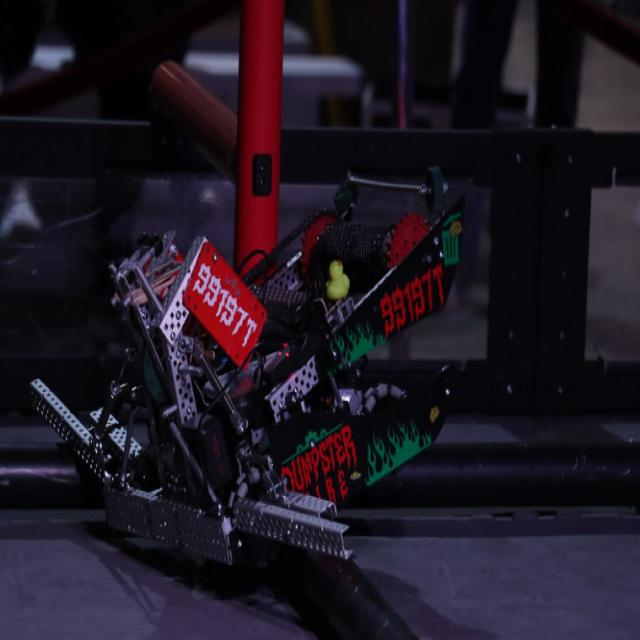License-Plates: (182, 246, 267, 362)
